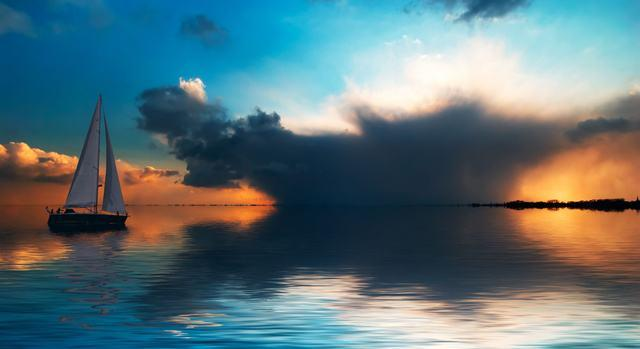fanchuan: (46, 94, 130, 233)
